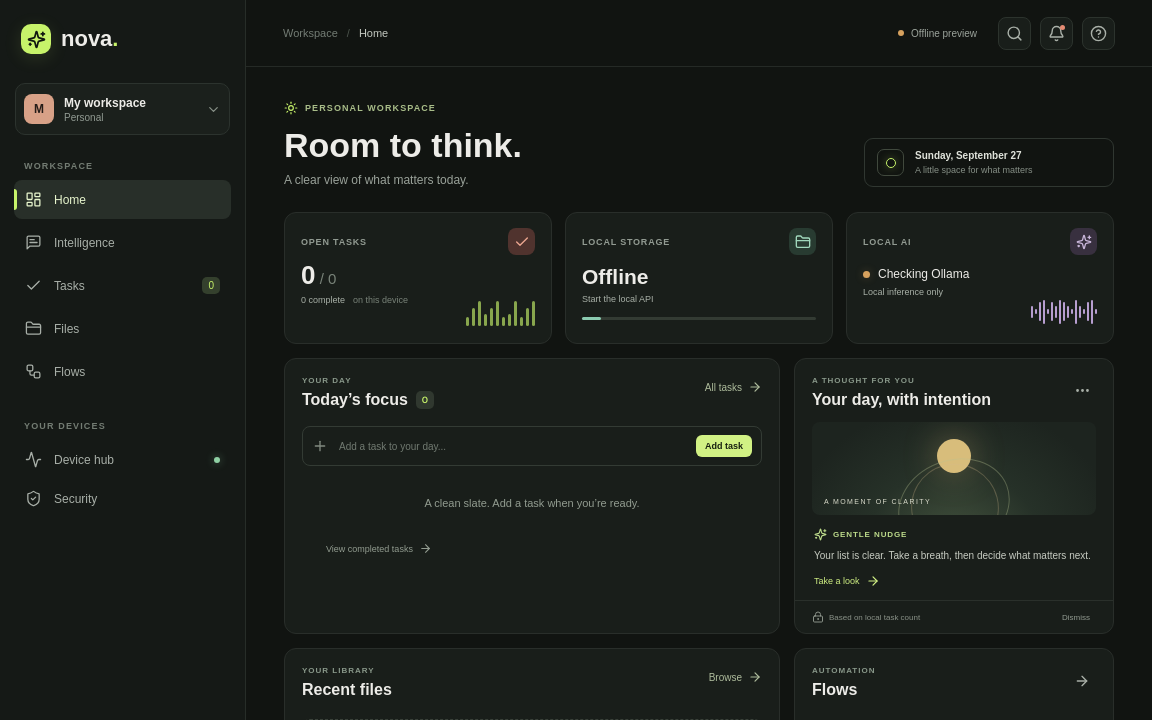
NOVA workspace › renders a reply from the configured local model without saving it
The image size is (1152, 720).
Click the button "Intelligence" at (122,242), box [14,223,231,262]
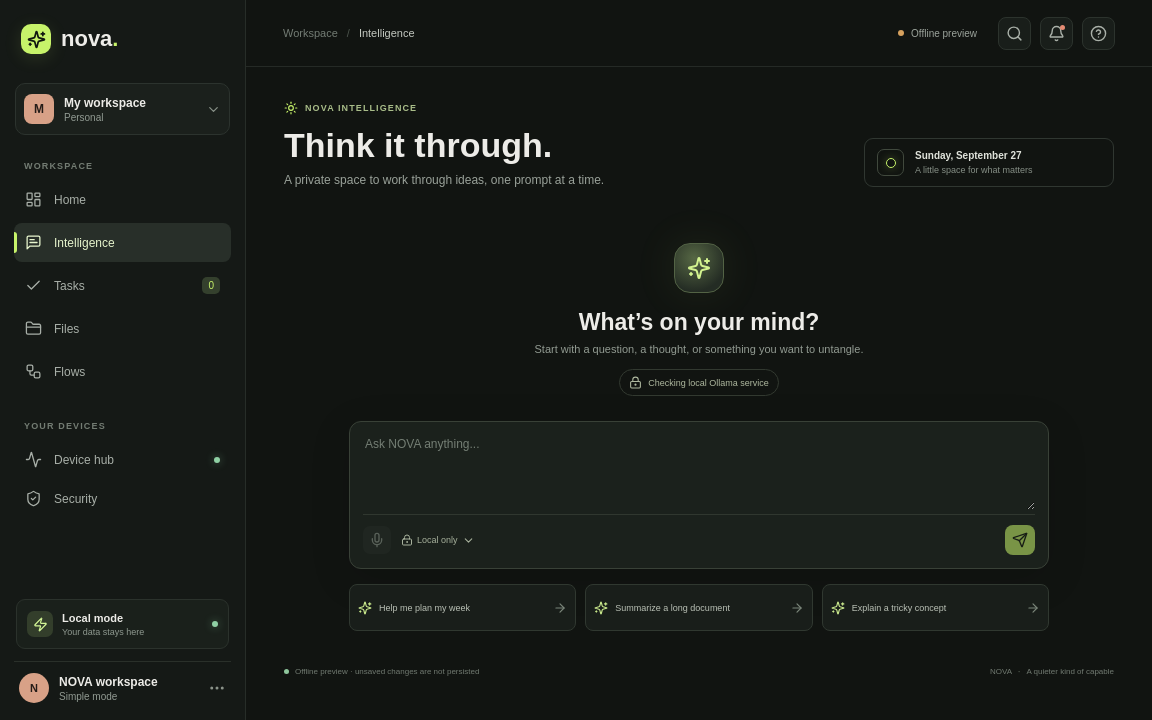
Type "A local question" into the text box with placeholder "Ask NOVA anything..." at (699,473), box [363,435,1035,510]
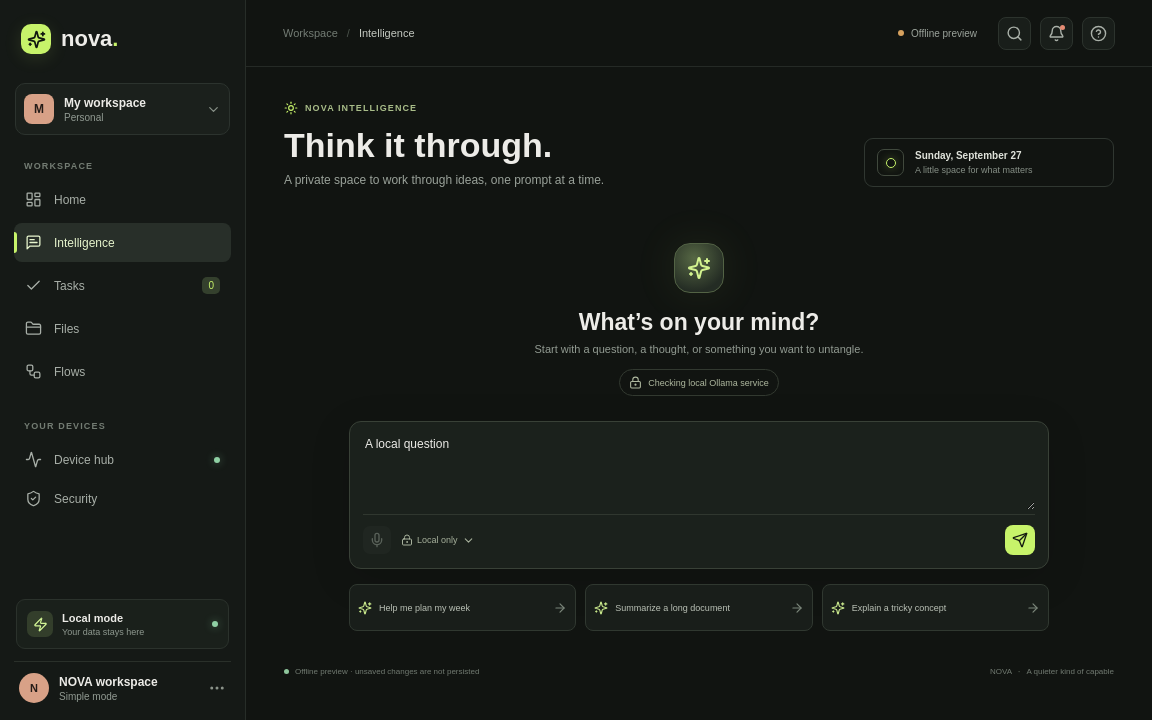
Click the button named "Send message" at (1020,540), box [1005,525,1035,555]
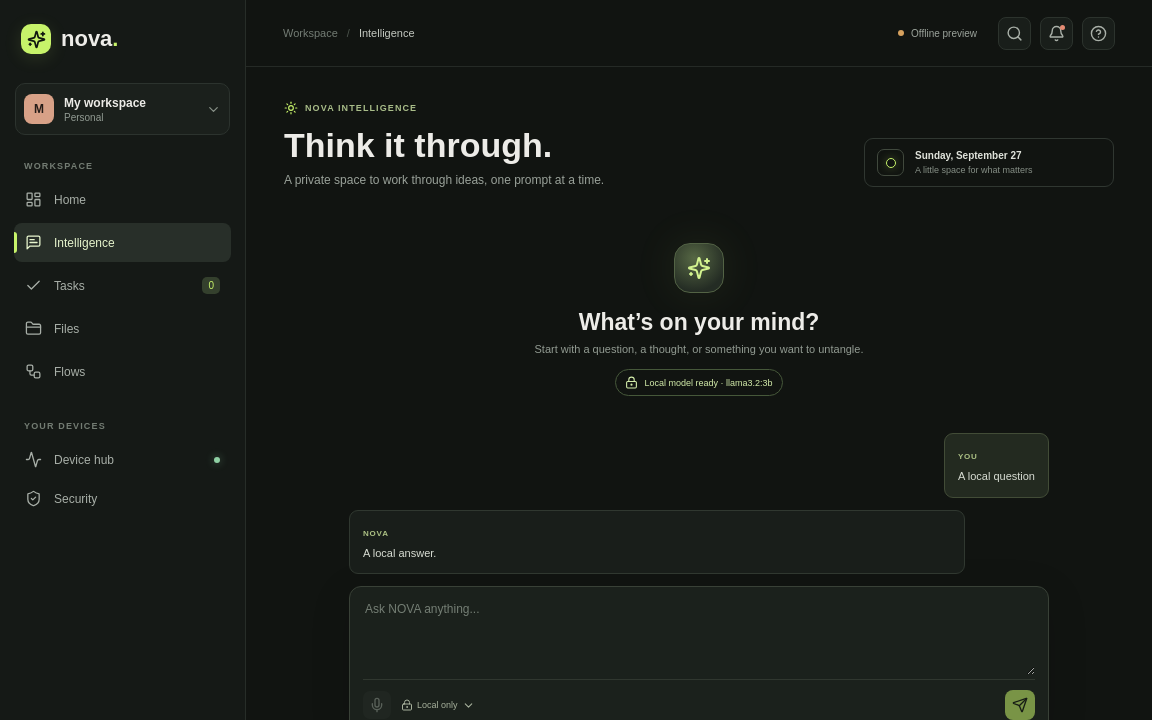
Expected: the text "A local answer." is shown, [363,547,436,559]
Expected: the text "A local question" is shown, [958,468,1035,486]
